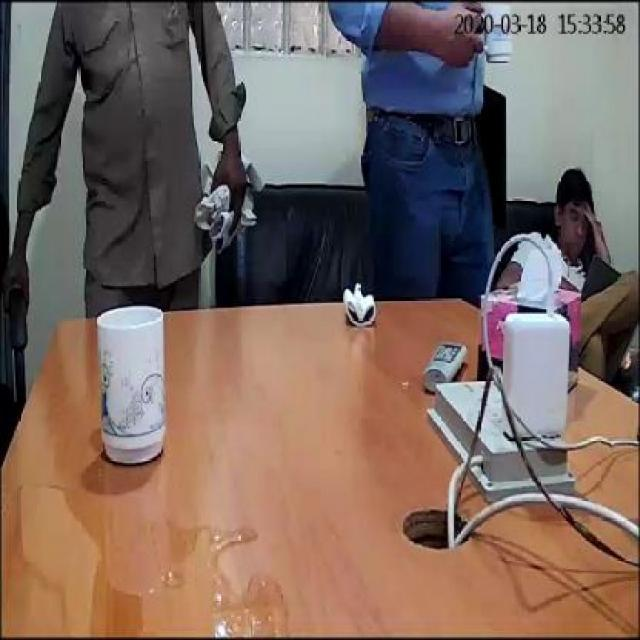spill: (14, 487, 286, 633)
